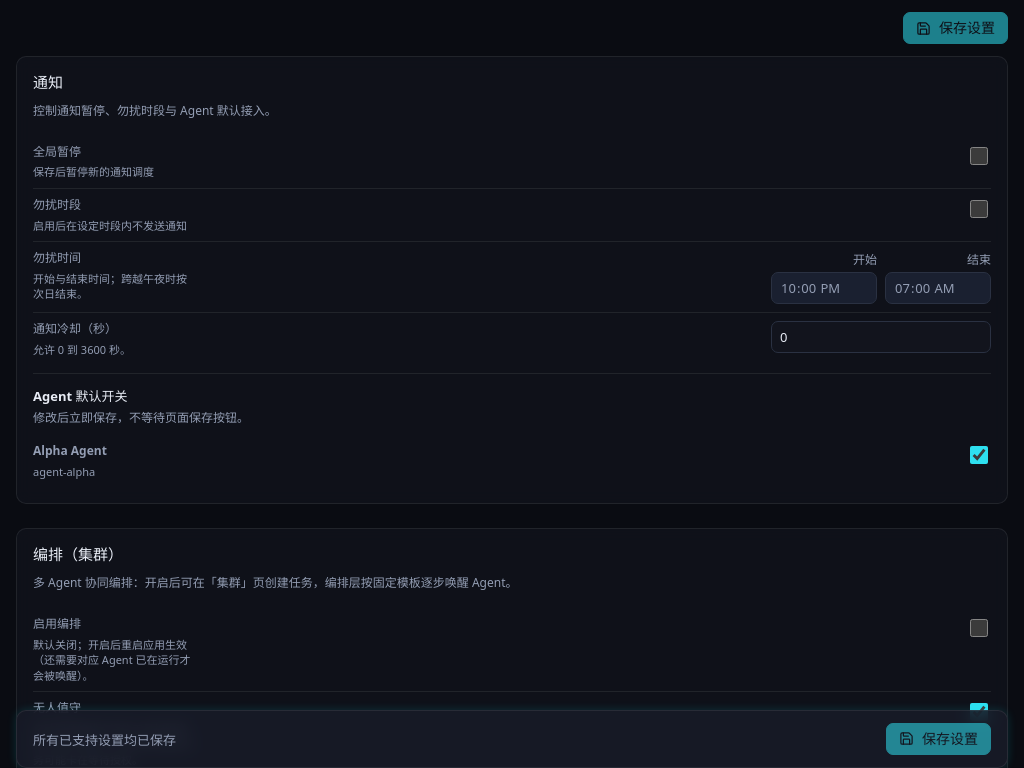
Test case: SettingsPage › validates, saves, and reports a successful settings update
Click the switch named "全局暂停".
click(979, 156)  # box x1=970 y1=147 x2=988 y2=165
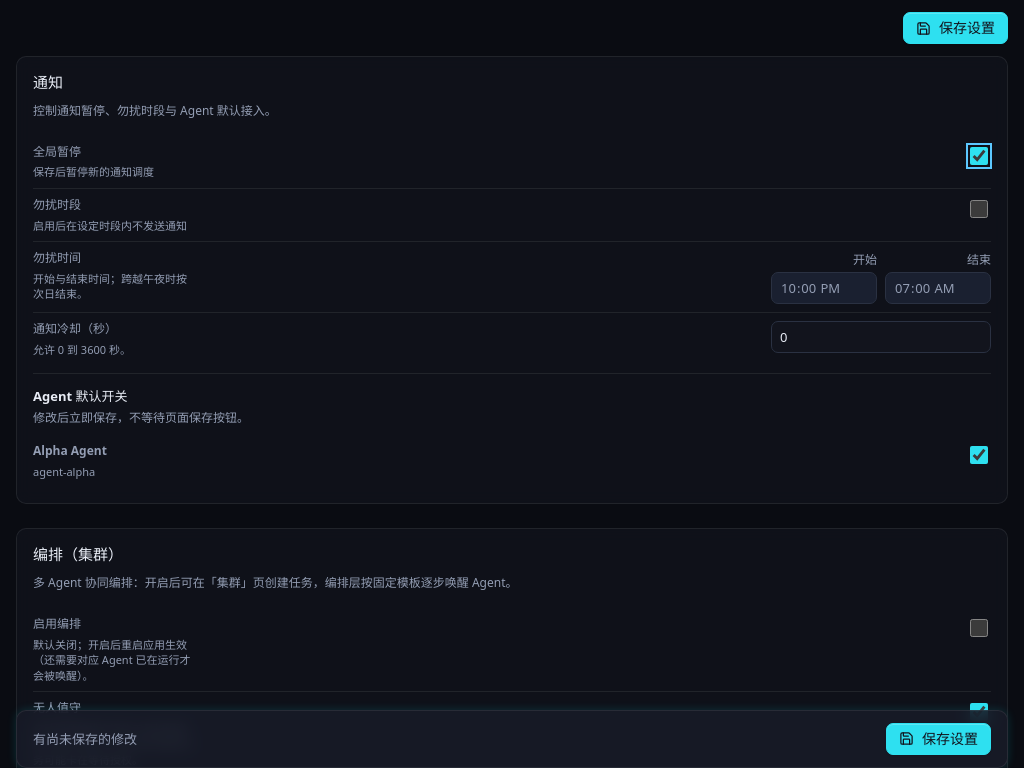
Replace the text in the number field named "通知冷却（秒）" with "30" at (881, 337), box x1=771 y1=321 x2=991 y2=353
(page scrolled)
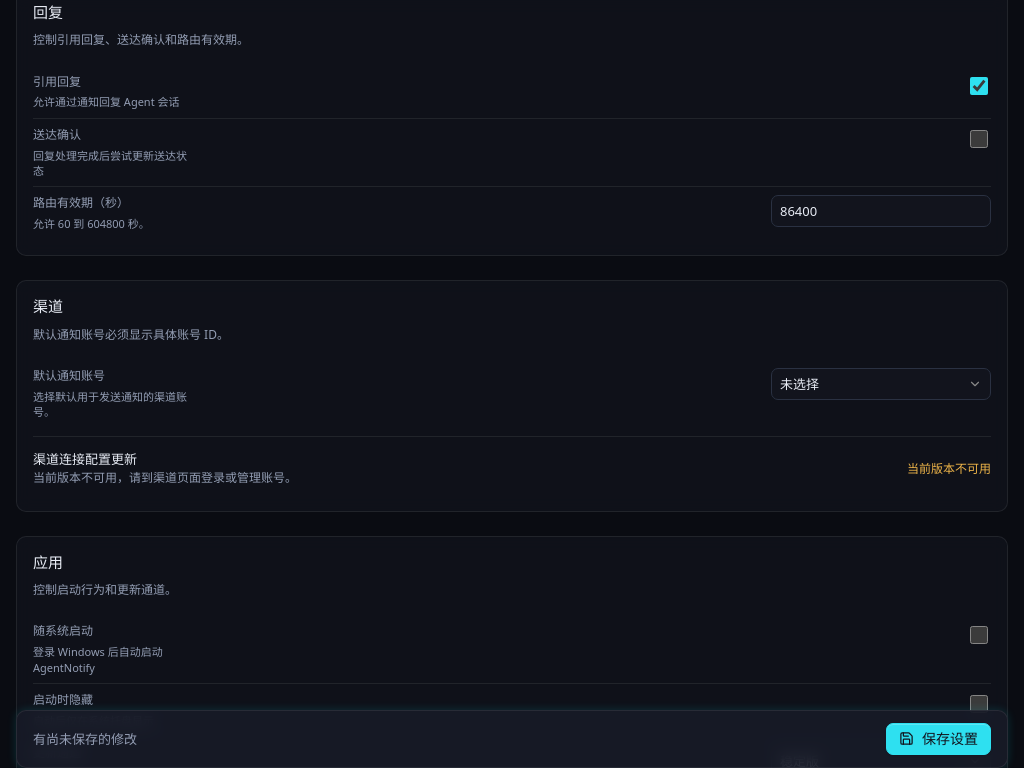
Select "测试渠道 / 主账号（account-alpha）" in the dropdown named "默认通知账号" at (881, 384), box x1=771 y1=368 x2=991 y2=400
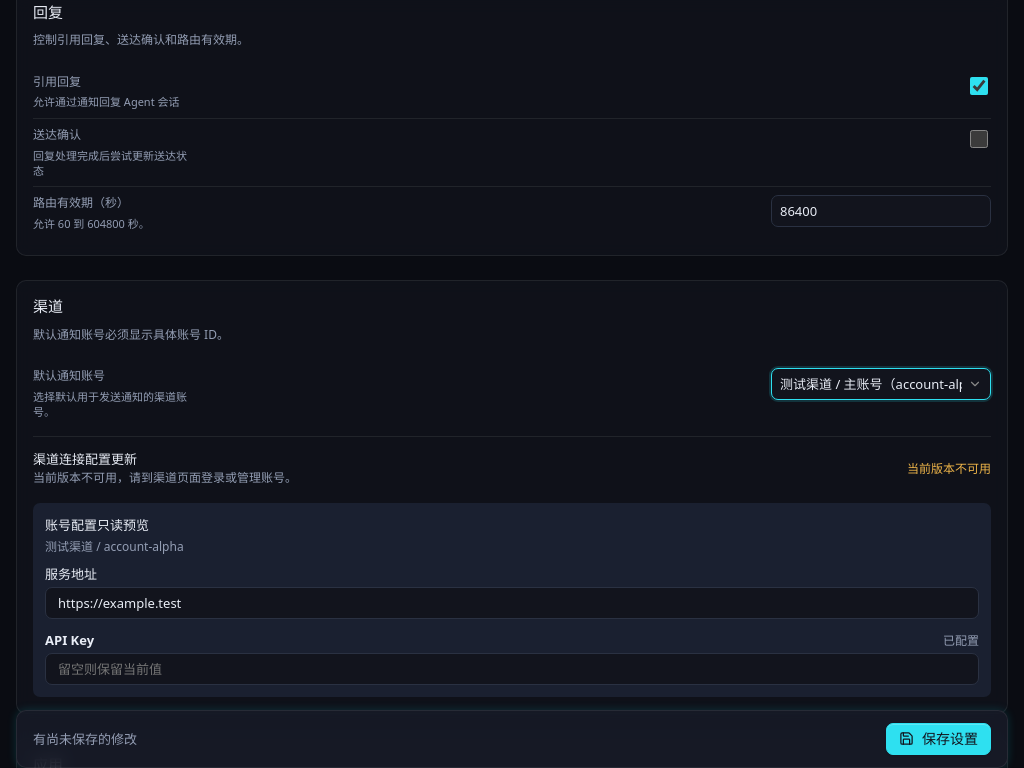
Click the button "保存设置".
click(938, 739)  # box x1=886 y1=723 x2=991 y2=755
(page scrolled)
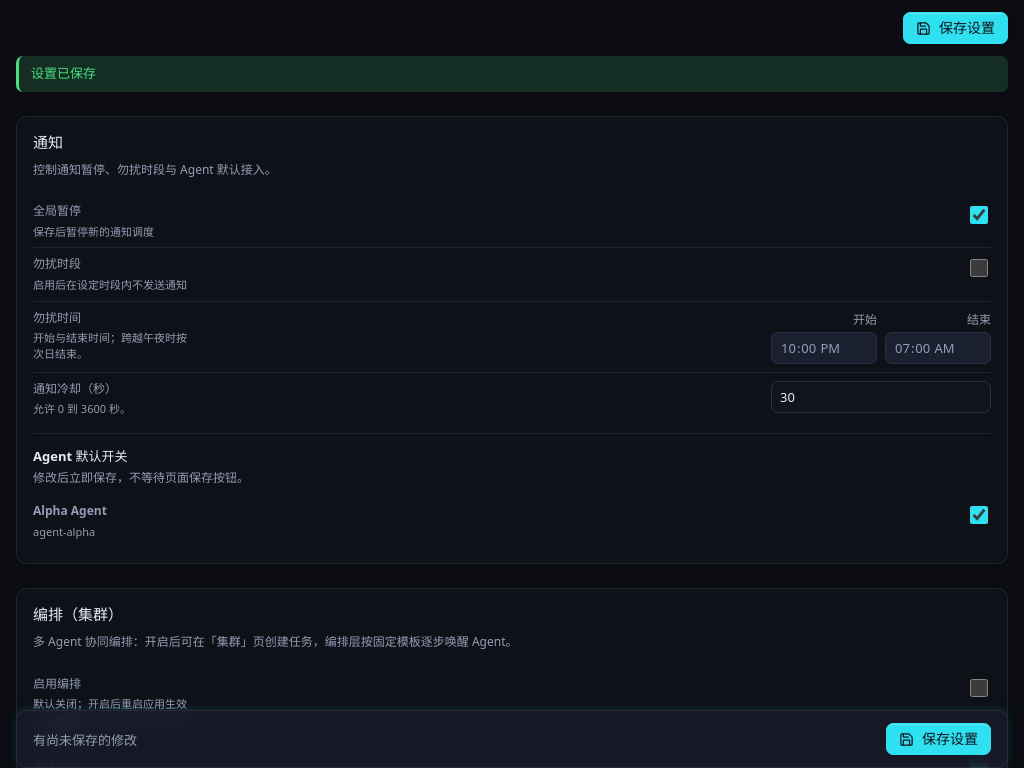
Result: the text "设置已保存" is shown at x1=16 y1=56 x2=1008 y2=92
